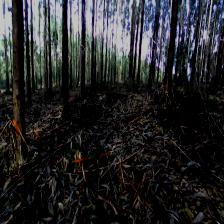trunk: (12, 0, 26, 160), (163, 7, 178, 94), (147, 8, 161, 90), (62, 8, 68, 110), (136, 12, 143, 86), (80, 10, 85, 102), (47, 17, 52, 94), (25, 28, 30, 103), (90, 19, 94, 86)
